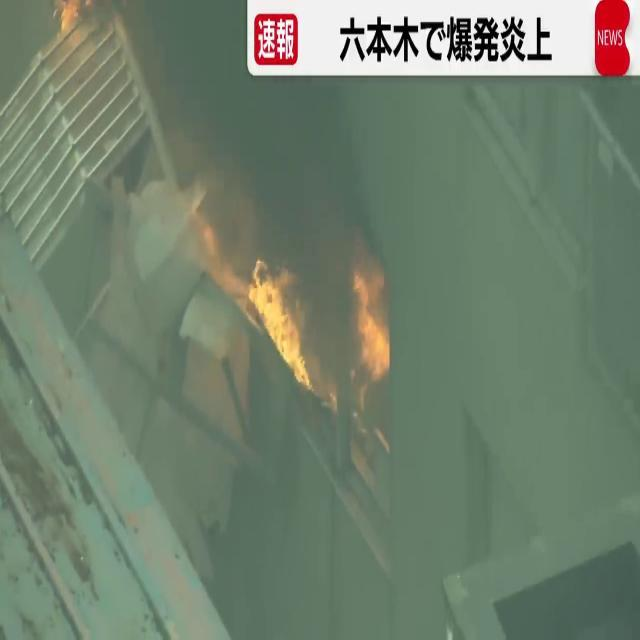Fire: (248, 244, 308, 386)
